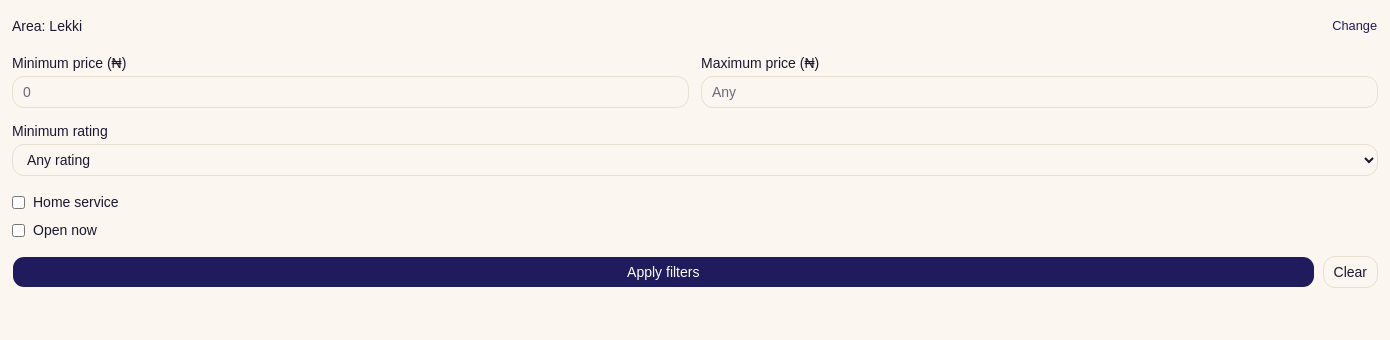
Test: FiltersForm › rejects prices with commas
Type "5,000" into the field labelled "Minimum price (₦)" at (350, 92), box [12,76,689,108]
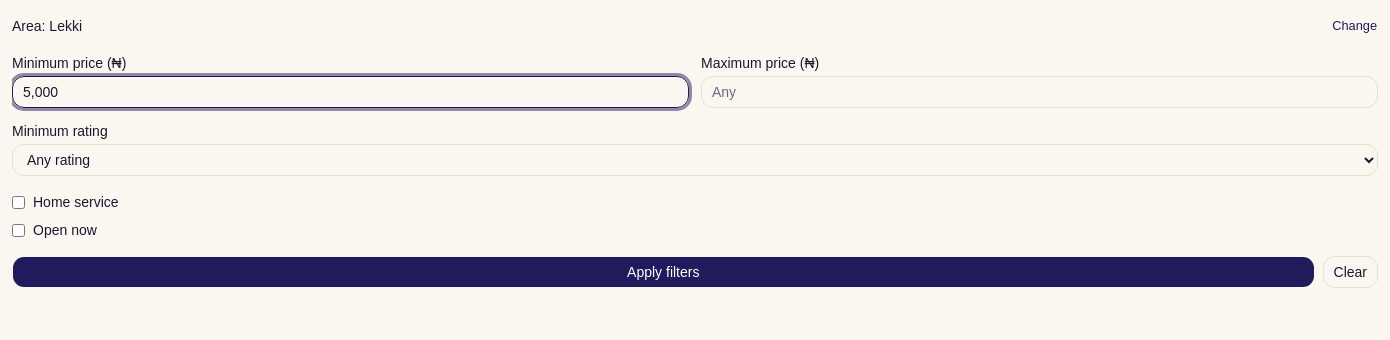
Click the button "Apply filters" at (663, 272), box [12,256,1314,288]
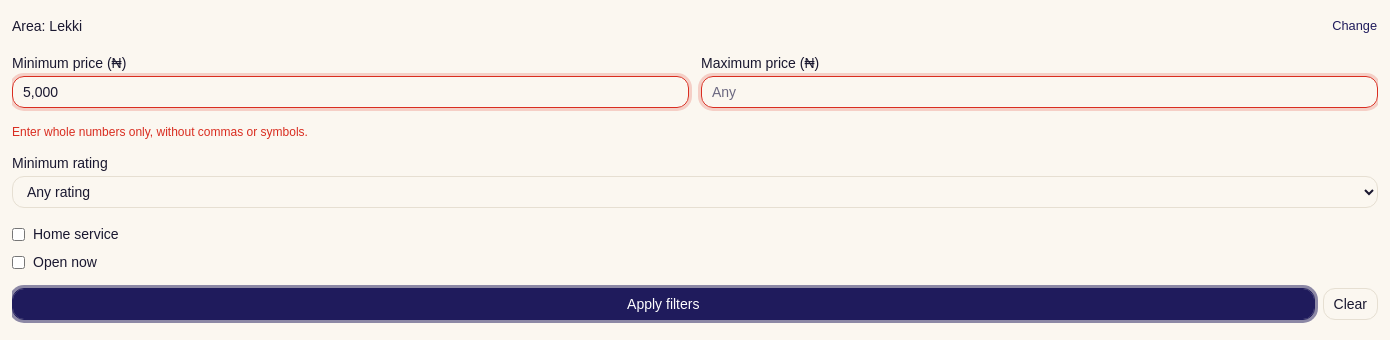
expect the message shows "whole numbers": met, box [12,125,308,139]
